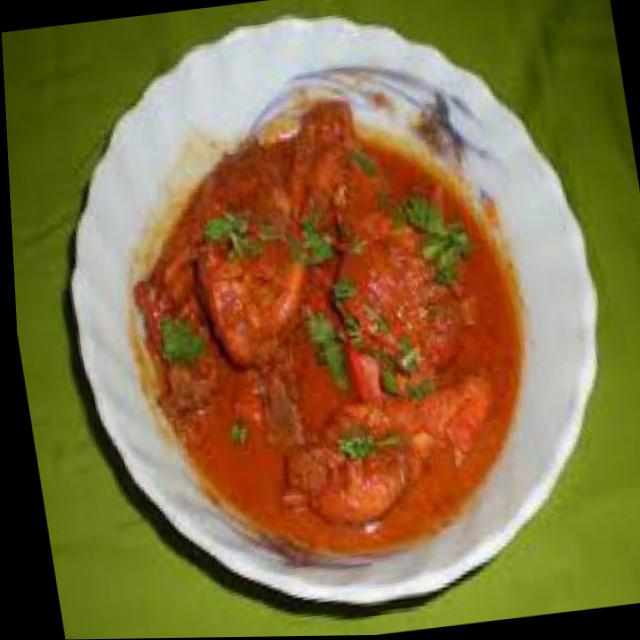CHICKEN CURRY: (128, 104, 539, 555)
